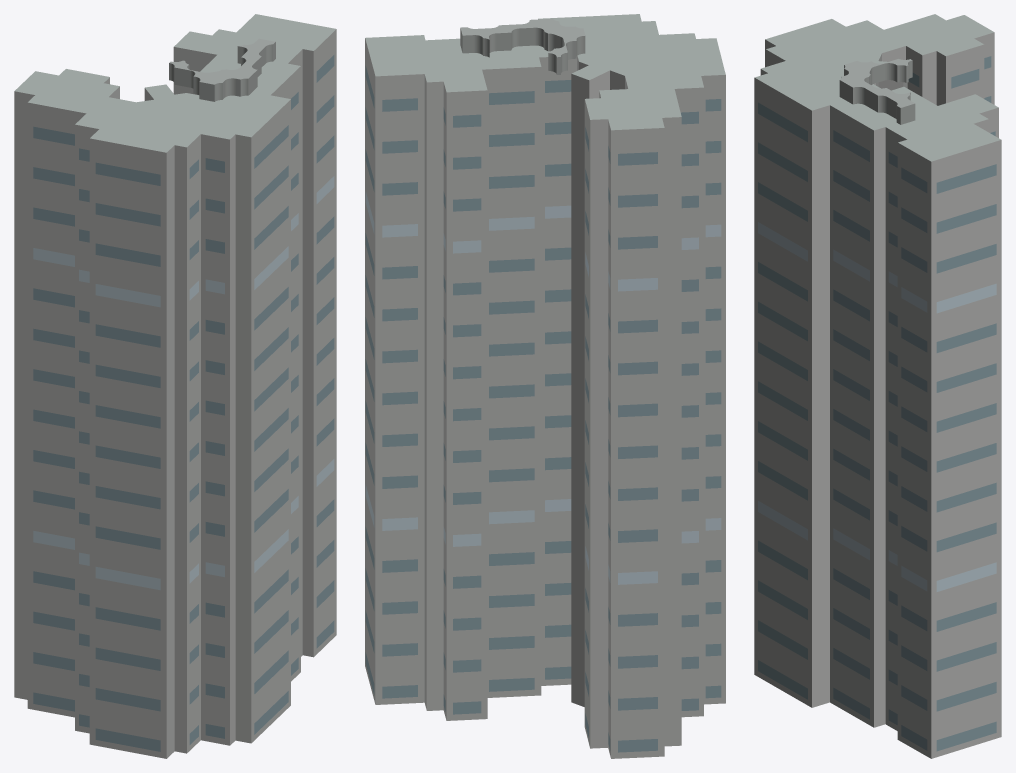
Rendered from fallback-mapo-raemian-prugio-403.glb.
3 renders of one model, left to right at view 1: azimuth 30°, elevation 25°; view 2: azimuth 150°, elevation 25°; view 3: azimuth 270°, elevation 25°, orthographic. The views are drawn at different scales.
Parts seen in each view (by area): view 1: fallback-mapo-raemian-prugio-403; view 2: fallback-mapo-raemian-prugio-403; view 3: fallback-mapo-raemian-prugio-403.
Boxes of the visible parts, x1=… form: fallback-mapo-raemian-prugio-403: x1=14, y1=14, x2=336, y2=758; fallback-mapo-raemian-prugio-403: x1=365, y1=14, x2=725, y2=758; fallback-mapo-raemian-prugio-403: x1=754, y1=14, x2=1001, y2=758.
Size of the model in its own units: 44.87 by 87 by 31.72.
